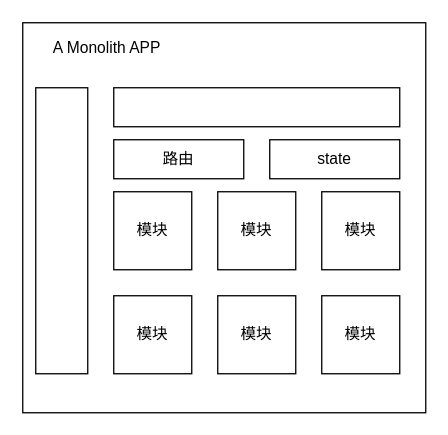
Some shapes in this 448 by 435 pixel diagram are drawn without their labels. The centre of each missing label's shape, as x and y in pixels:
"Layout" goes at (x=256, y=106).
"组件库" goes at (x=61, y=230).
